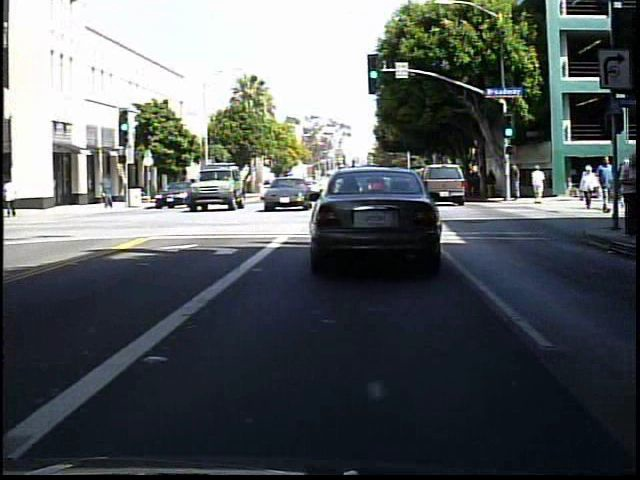person: (615, 153, 638, 240), (597, 152, 615, 215), (505, 160, 526, 206), (580, 164, 600, 212), (529, 164, 547, 206), (5, 177, 22, 220), (102, 173, 116, 211), (470, 170, 482, 201), (487, 169, 498, 199)
